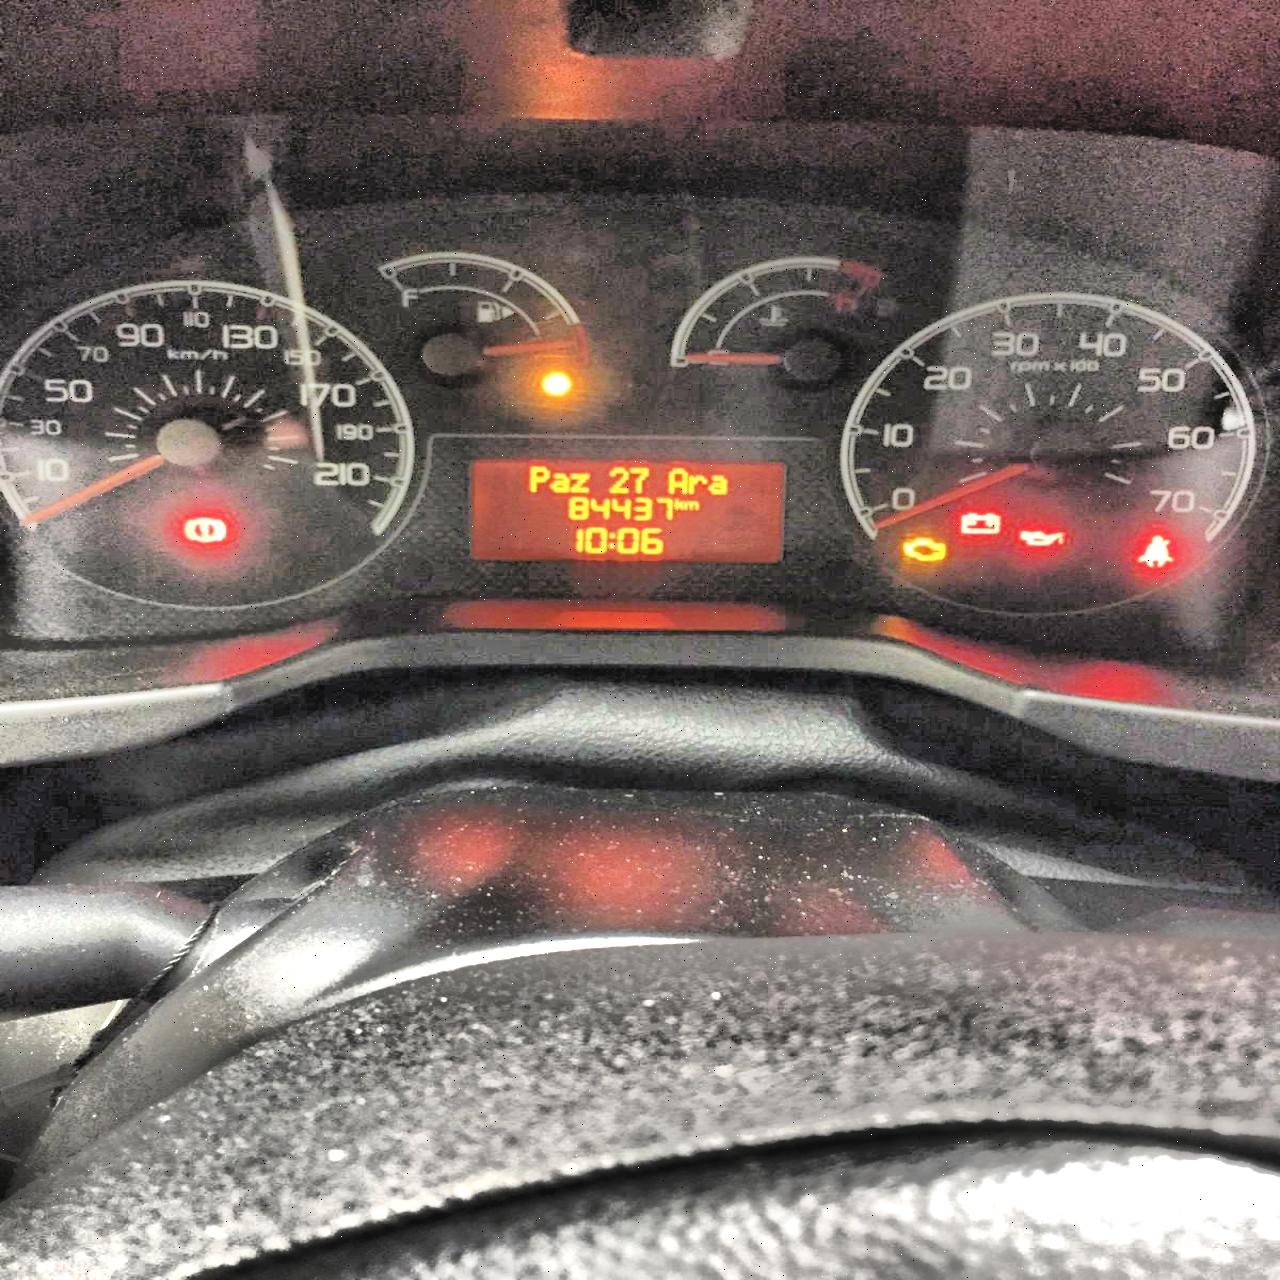0: (584, 525, 607, 553), (617, 525, 638, 553)
1: (573, 524, 584, 553)
2: (607, 464, 632, 495)
3: (633, 495, 653, 519)
4: (587, 497, 611, 519), (611, 497, 632, 519)
6: (640, 526, 666, 553)
7: (629, 465, 649, 493), (656, 497, 673, 520)
8: (566, 495, 587, 520)
X: (526, 463, 549, 491), (669, 467, 688, 495), (708, 475, 729, 496), (570, 471, 591, 492), (688, 472, 706, 493), (551, 471, 568, 492), (683, 499, 700, 511), (606, 531, 615, 550), (673, 496, 683, 510)
odometer: (474, 456, 788, 563)
